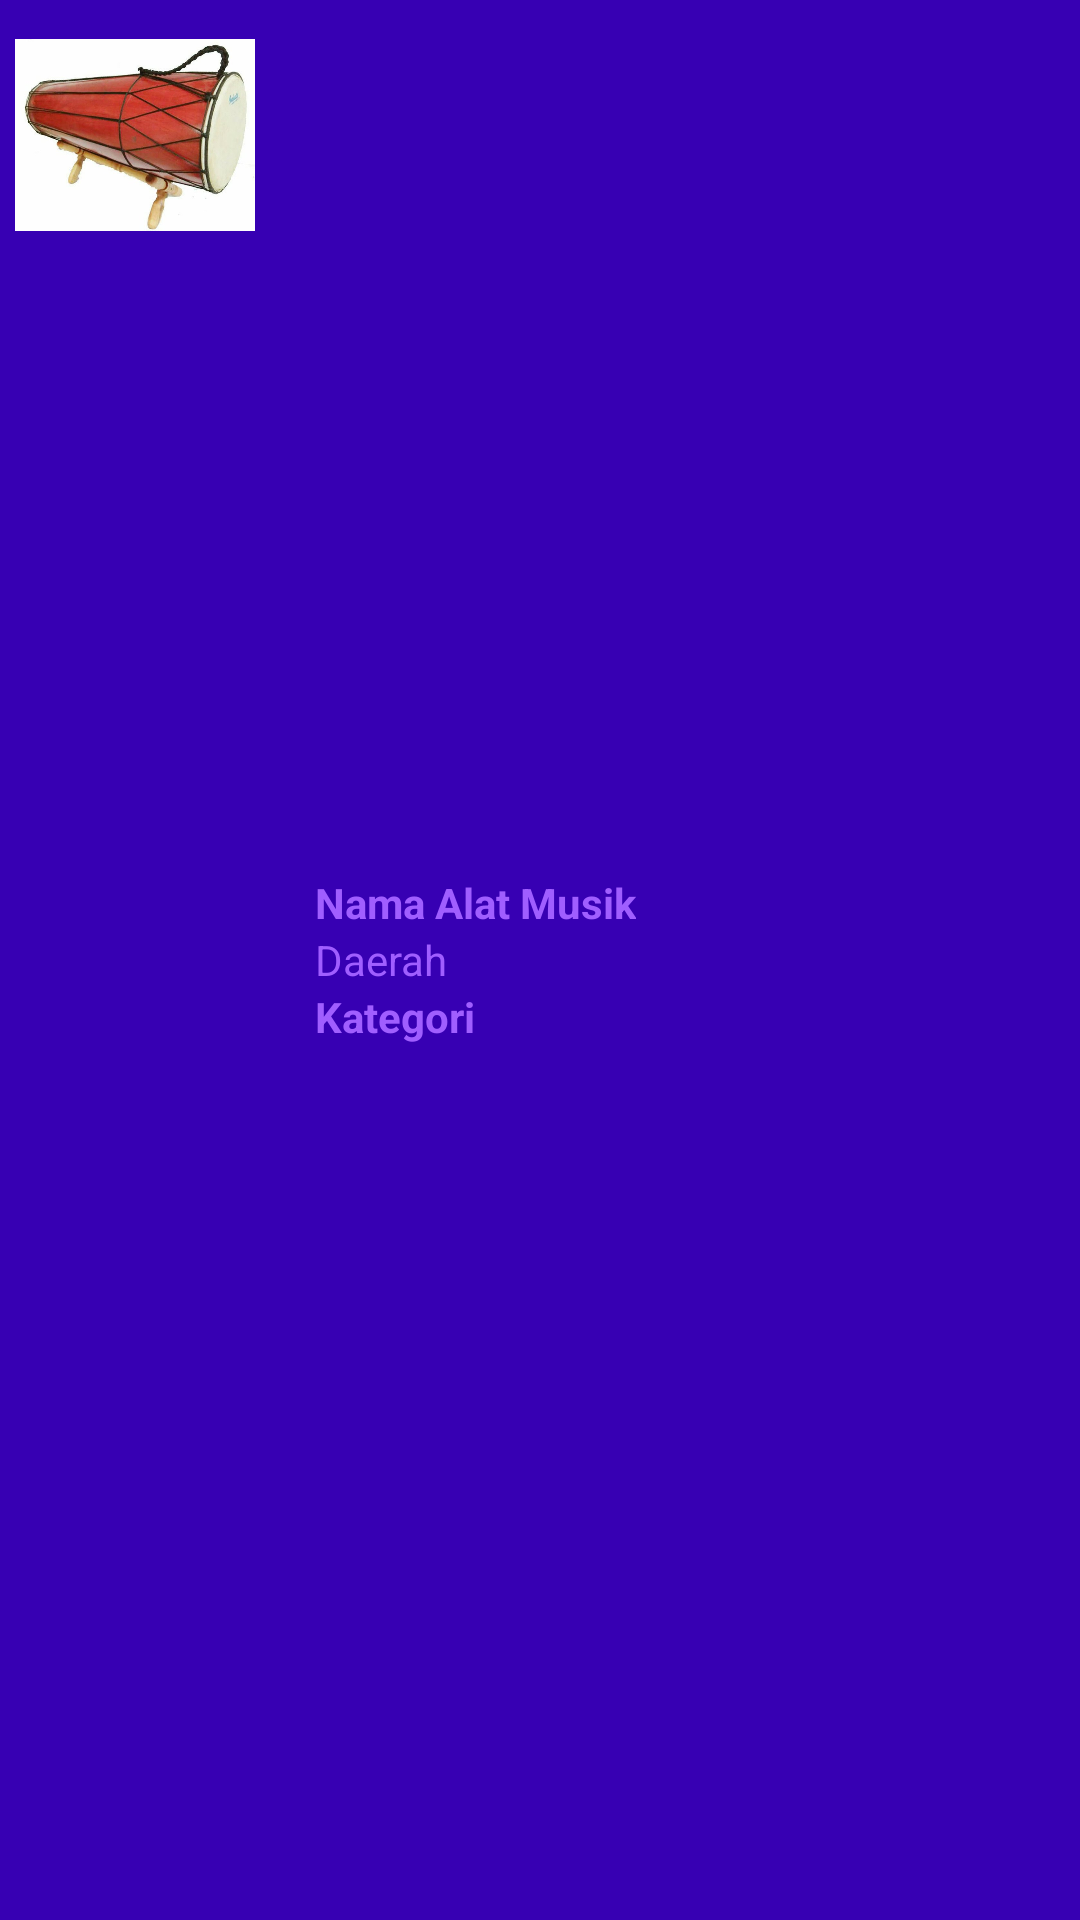

Icons on this 1080 x 1920 Android screen, each with its box as (x1, y1, x2, y2):
gendang jogja: (15, 39, 255, 231)
